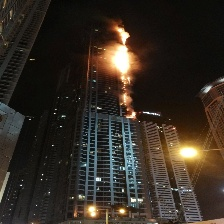fire: (113, 20, 138, 120)
